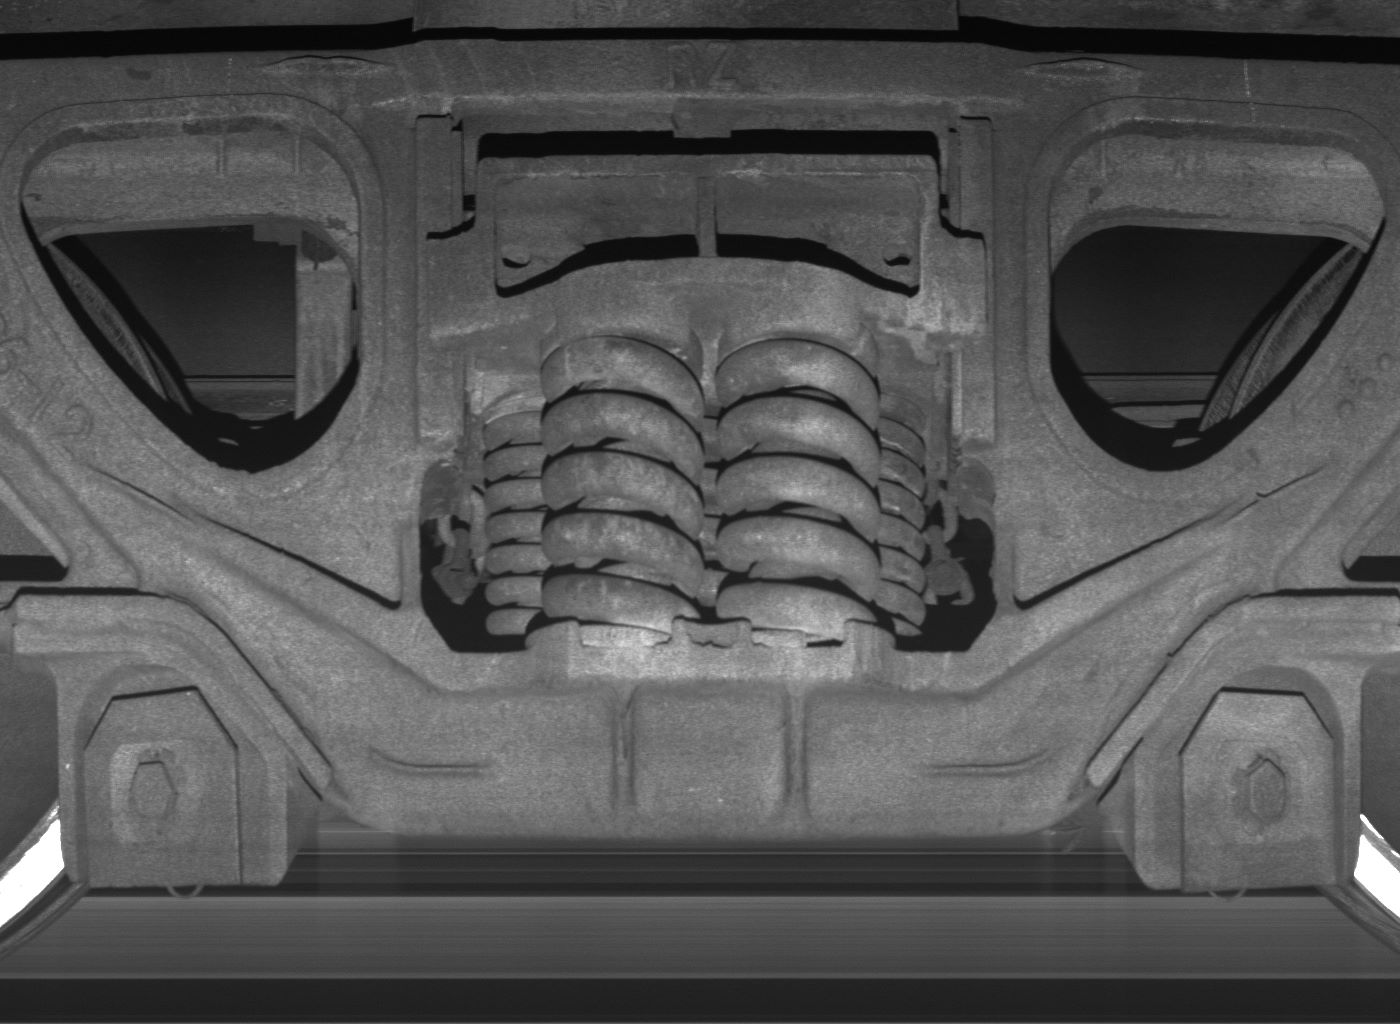normal: (1133, 664, 1360, 895), (59, 665, 288, 885)
